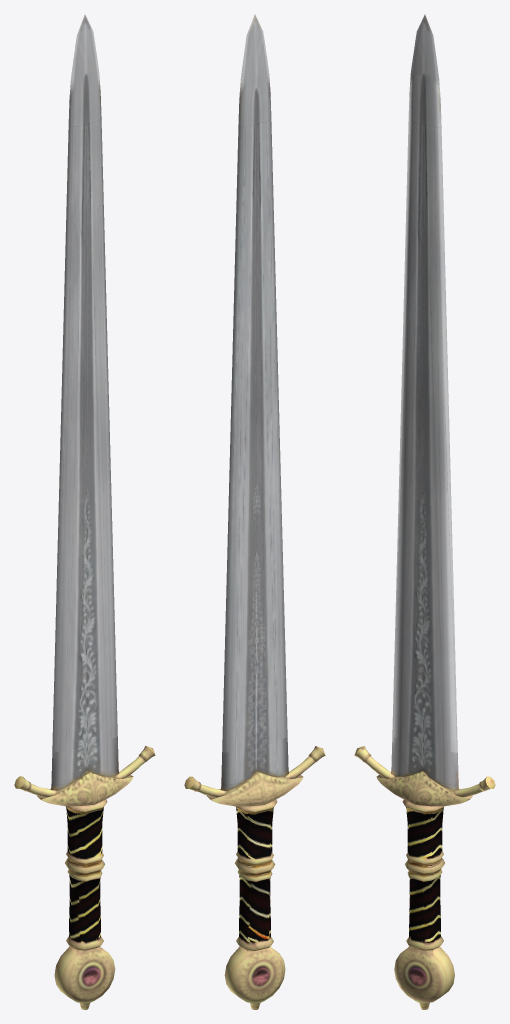
File: w_longsword_t3.glb
3 renders of one model, left to right at view 1: azimuth 30°, elevation 25°; view 2: azimuth 210°, elevation 25°; view 3: azimuth 330°, elevation 25°, orthographic.
Visible parts, largest first — view 1: Longsword:0; view 2: Longsword:0; view 3: Longsword:0.
Boxes of the visible parts, x1,y1,x2,y2 form: Longsword:0: [14, 14, 155, 1009]; Longsword:0: [184, 14, 325, 1009]; Longsword:0: [354, 14, 495, 1009].
Size of the model in its own units: 11.52 by 79.15 by 3.19.
Materials: 1 (1 with a texture image).
